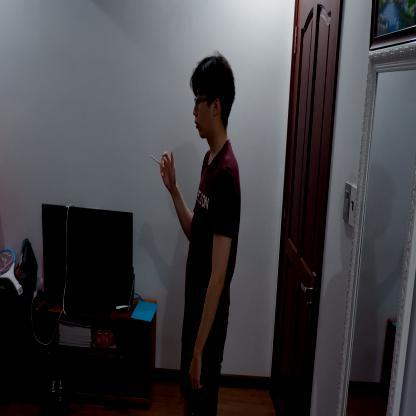cigarette: (150, 155, 161, 166)
person: (159, 52, 243, 415)
